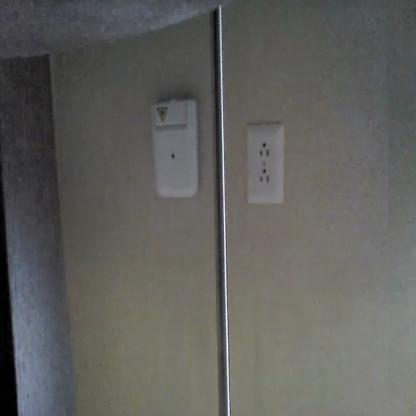OUTLET: (247, 122, 285, 206)
